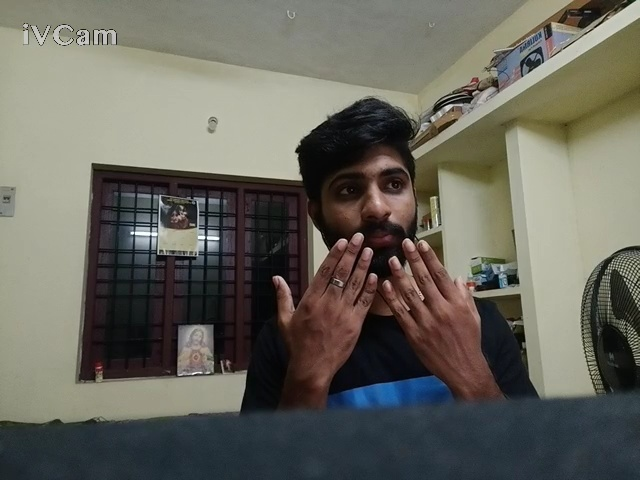Thank You: (250, 222, 507, 480)
